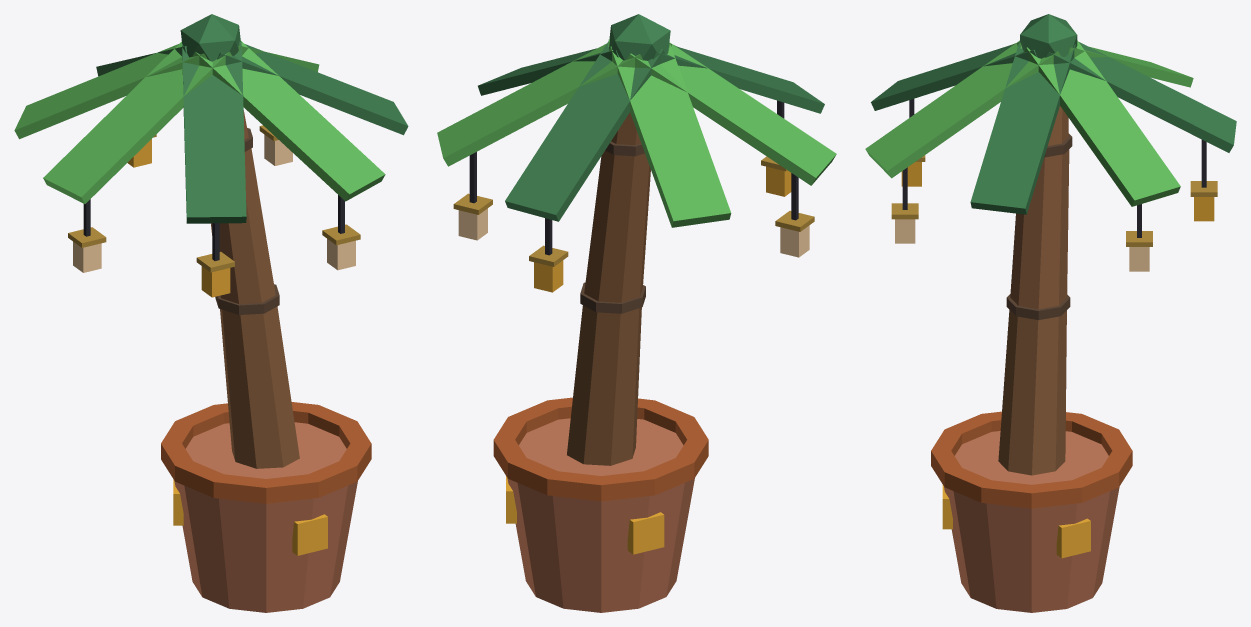
The model's file is CatCafe_Decor_LanternPalm.glb.
The picture shows the model from 3 angles, left to right: view 1: azimuth 30°, elevation 25°; view 2: azimuth 150°, elevation 25°; view 3: azimuth 270°, elevation 25°; orthographic projection. The views are drawn at different scales.
Parts seen in each view (by area): view 1: CatCafe_Decor_LanternPalm, CatCafe_Decor_LanternPalm_Glow; view 2: CatCafe_Decor_LanternPalm, CatCafe_Decor_LanternPalm_Glow; view 3: CatCafe_Decor_LanternPalm, CatCafe_Decor_LanternPalm_Glow.
Boxes of the visible parts, <box> form: CatCafe_Decor_LanternPalm: <box>14,14,408,612</box>; CatCafe_Decor_LanternPalm_Glow: <box>73,134,355,297</box>; CatCafe_Decor_LanternPalm: <box>437,14,836,612</box>; CatCafe_Decor_LanternPalm_Glow: <box>458,166,809,292</box>; CatCafe_Decor_LanternPalm: <box>865,14,1236,612</box>; CatCafe_Decor_LanternPalm_Glow: <box>895,162,1214,271</box>.
Size of the model in its own units: 2.24 by 3.6 by 2.21.
Materials: 1 (1 with a texture image).
